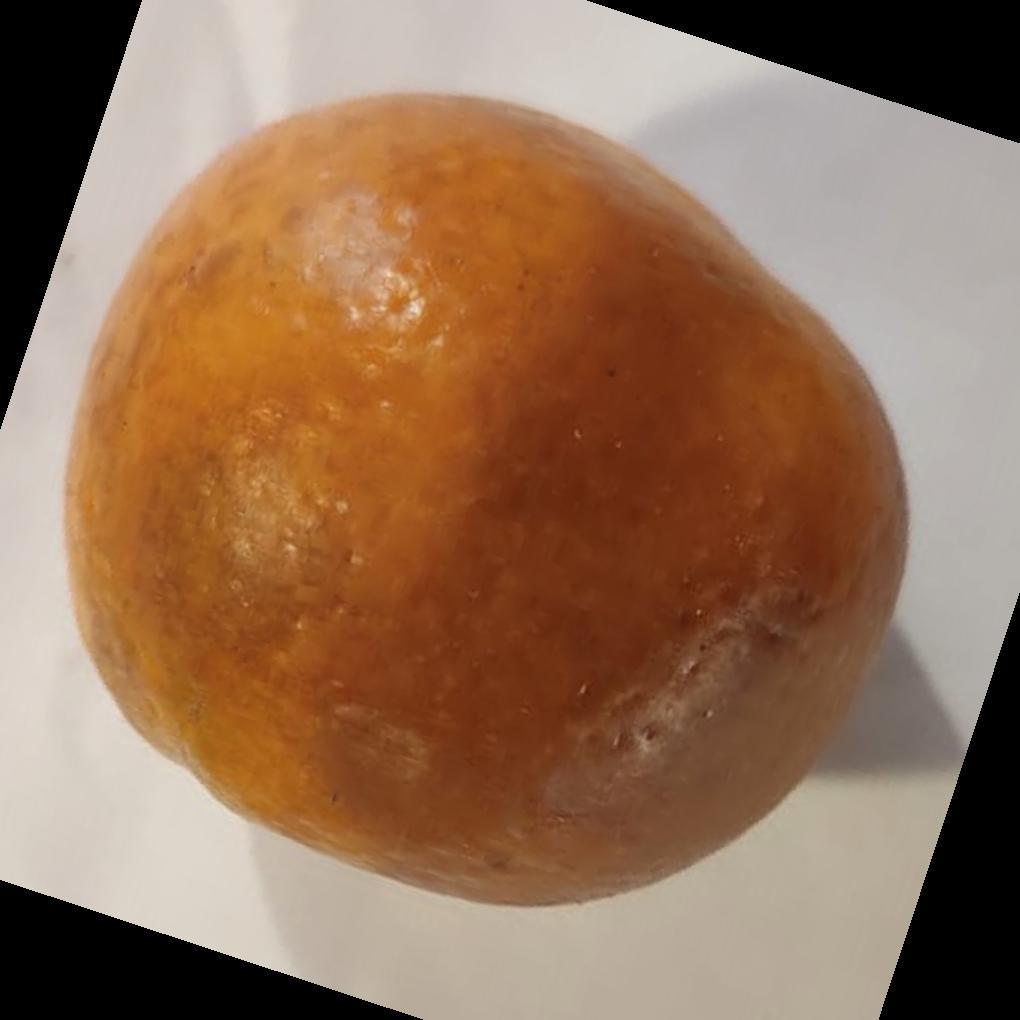FreshOrange: (60, 94, 911, 913)
